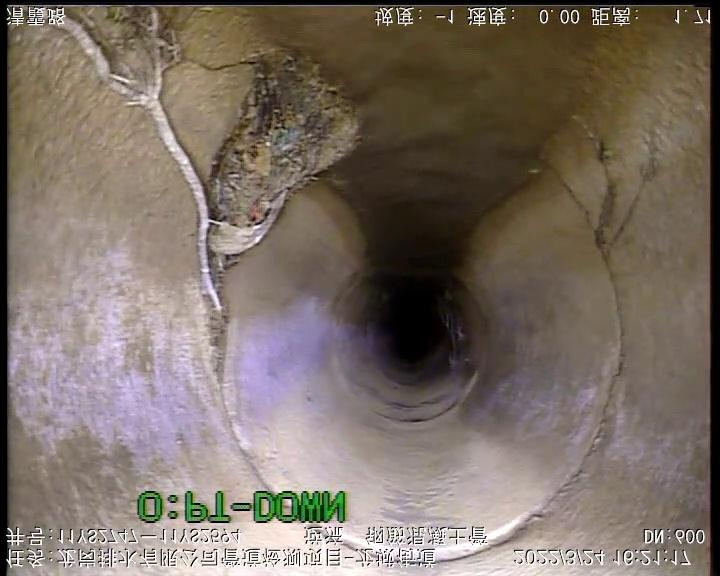SG: (7, 7, 359, 377)
